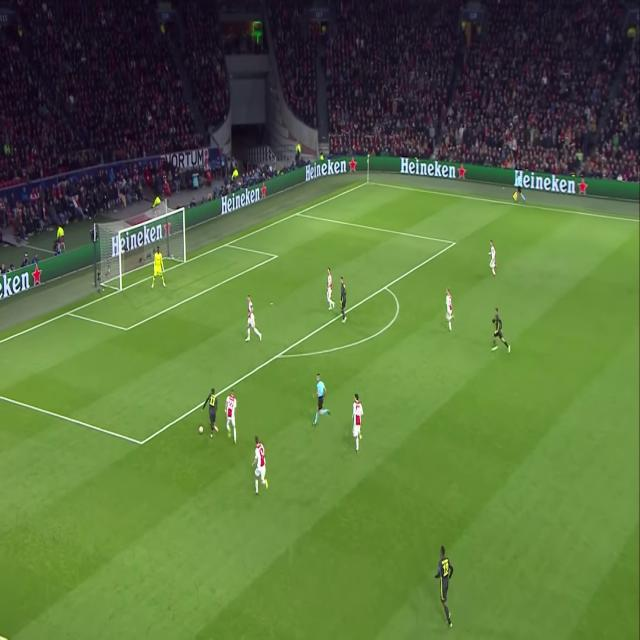Ball: (198, 425, 204, 438)
GoalKeeper: (151, 243, 165, 290)
TEAM 1: (435, 544, 454, 626), (493, 309, 512, 356), (204, 390, 218, 435), (338, 276, 348, 320)
TEAM 2: (252, 439, 268, 497), (352, 394, 365, 454), (246, 295, 262, 343), (225, 392, 239, 445), (445, 288, 455, 333), (325, 272, 336, 310), (488, 240, 499, 276)
